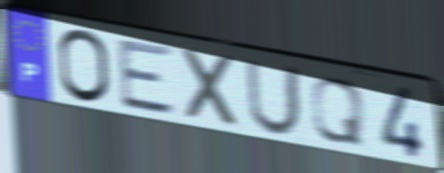4: (379, 84, 427, 162)
E: (115, 37, 180, 118)
O: (56, 27, 114, 107)
Q: (308, 75, 367, 149)
U: (243, 58, 303, 139)
X: (179, 45, 243, 132)
